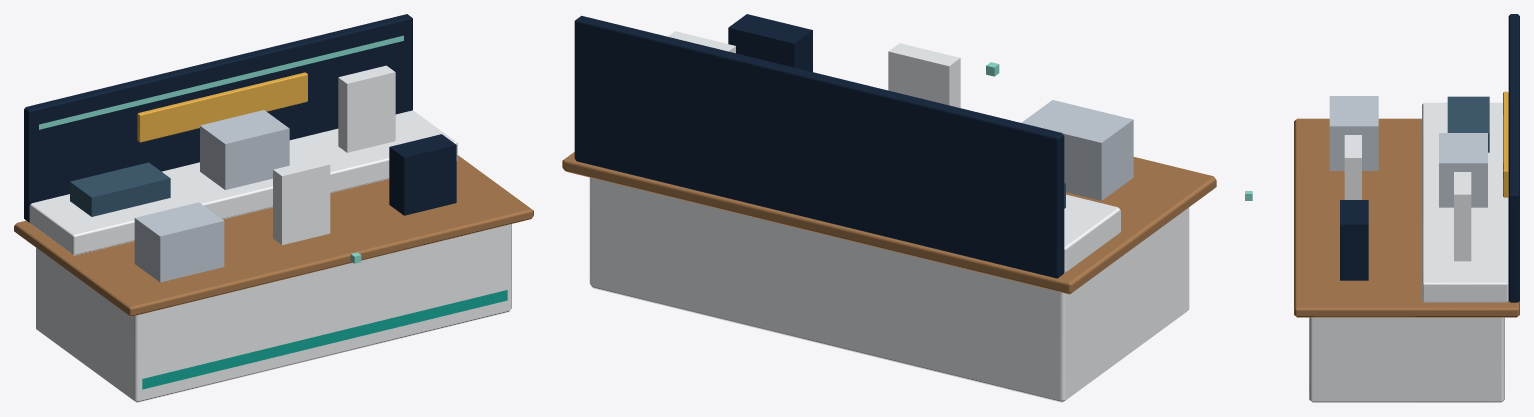
Rendered from CM_Fixture_ElectronicsTable_Far.fbx.
3 views of the same model, side by side, from view 1: azimuth 30°, elevation 25°; view 2: azimuth 150°, elevation 25°; view 3: azimuth 270°, elevation 25° (orthographic). The views are drawn at different scales.
Visible parts, largest first — view 1: Body; view 2: Body; view 3: Body.
Boxes of the visible parts, x1=… form: Body: x1=14, y1=14, x2=533, y2=402; Body: x1=562, y1=14, x2=1216, y2=402; Body: x1=1294, y1=14, x2=1519, y2=402.
Bounding box in the file's own units: 12 × 7.3 × 6.2.
Materials: 1 (1 with a texture image).
